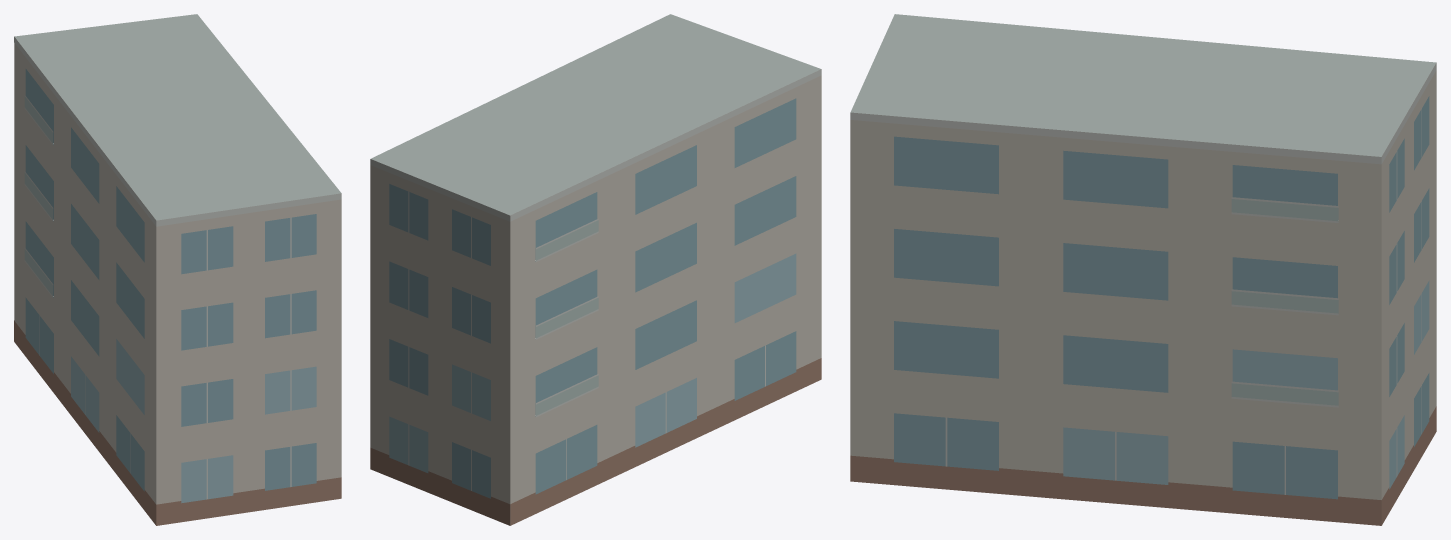
The model's file is survey-upis-32713967.glb.
3 views of the same model, side by side, from view 1: azimuth 30°, elevation 25°; view 2: azimuth 150°, elevation 25°; view 3: azimuth 270°, elevation 25° (orthographic). The views are drawn at different scales.
Parts seen in each view (by area): view 1: survey-upis-32713967.tmp; view 2: survey-upis-32713967.tmp; view 3: survey-upis-32713967.tmp.
Boxes of the visible parts, bbox=[...] form: survey-upis-32713967.tmp: bbox=[14, 14, 341, 525]; survey-upis-32713967.tmp: bbox=[370, 14, 821, 525]; survey-upis-32713967.tmp: bbox=[850, 14, 1436, 525].
Size of the model in its own units: 10.15 by 12.2 by 17.58.
